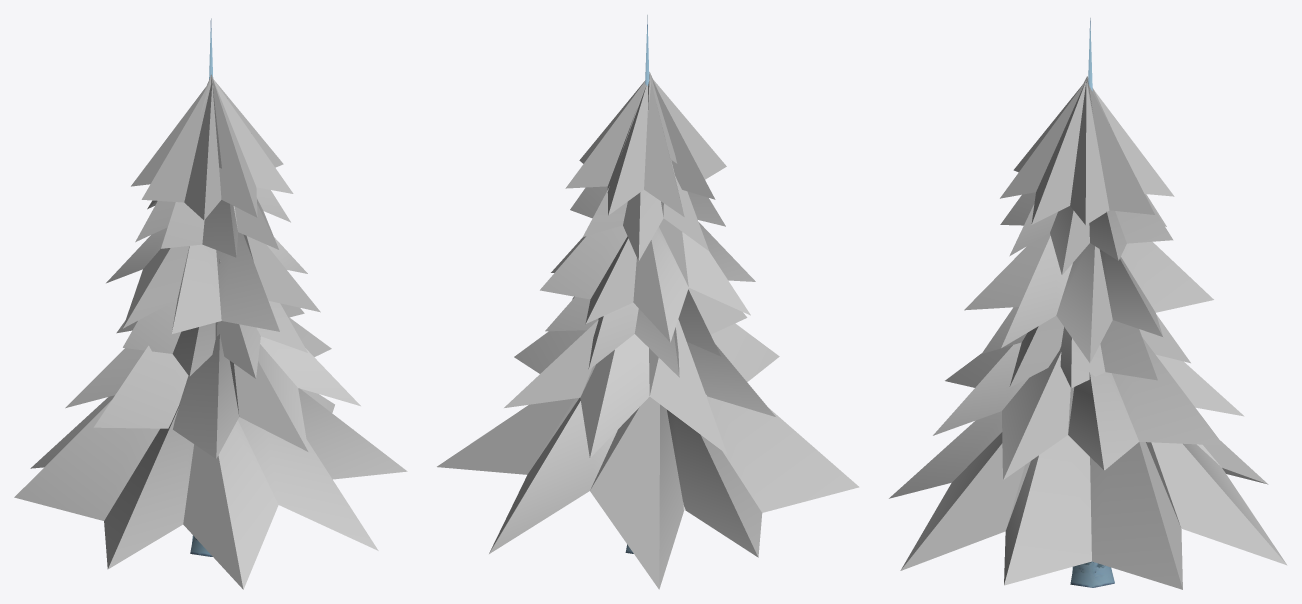
File: Scene_Tree_xuesongshu3.FBX
The picture shows the model from 3 angles, left to right: view 1: azimuth 30°, elevation 25°; view 2: azimuth 150°, elevation 25°; view 3: azimuth 270°, elevation 25°; orthographic projection. The views are drawn at different scales.
Parts seen in each view (by area): view 1: Scene_Tree_xuesongshu3_2; view 2: Scene_Tree_xuesongshu3_2; view 3: Scene_Tree_xuesongshu3_2, Scene_Tree_xuesongshu3_1.
Boxes of the visible parts, x1,y1,x2,y2 form: Scene_Tree_xuesongshu3_2: [14, 74, 407, 589]; Scene_Tree_xuesongshu3_2: [437, 72, 859, 589]; Scene_Tree_xuesongshu3_2: [889, 76, 1287, 589]; Scene_Tree_xuesongshu3_1: [1070, 18, 1114, 587].
Size of the model in its own units: 1194 by 1869 by 1198.
